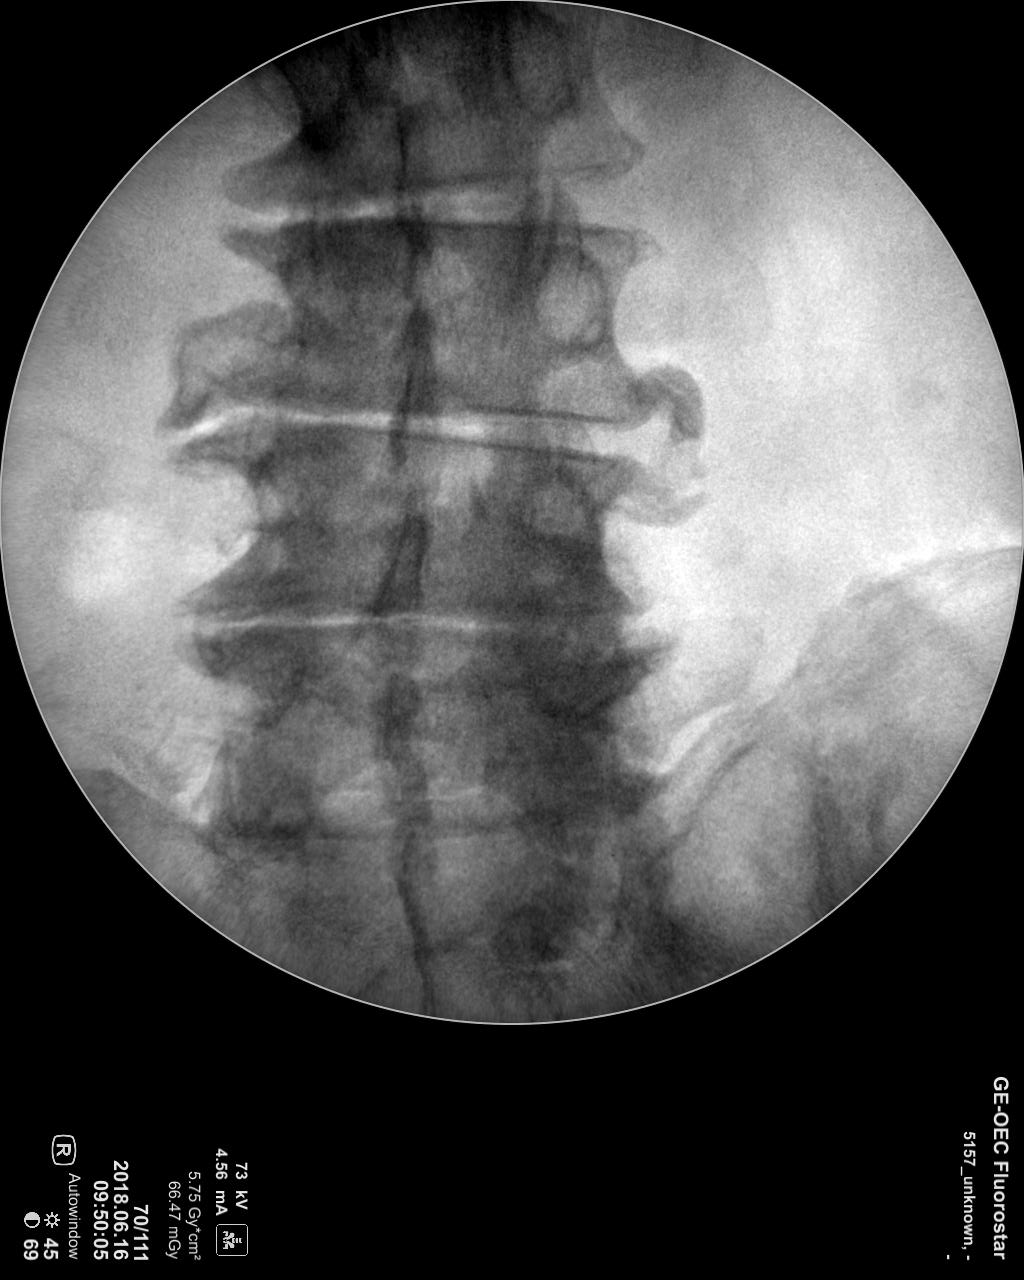eyes: (204, 626, 312, 730), (233, 442, 341, 536), (502, 13, 583, 125), (531, 245, 618, 346), (266, 240, 362, 330), (512, 621, 604, 711), (506, 465, 594, 546)
nose: (383, 300, 448, 471), (370, 475, 435, 632), (381, 104, 443, 255), (362, 659, 430, 790)
